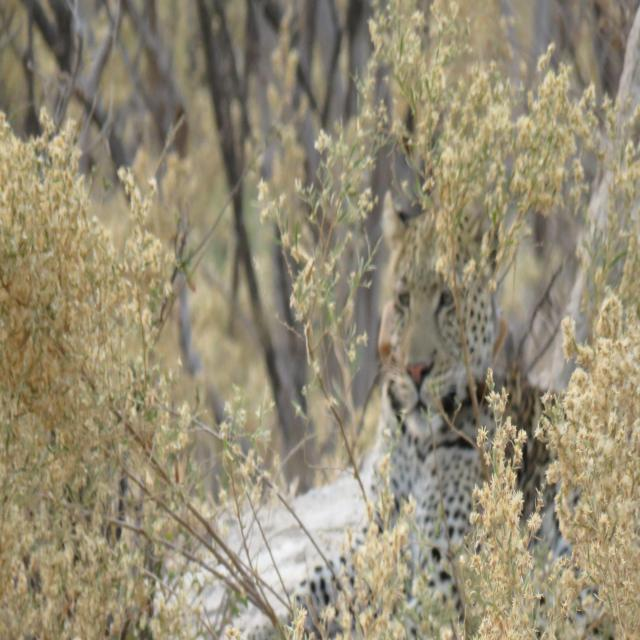Leopard: (190, 168, 632, 640)
